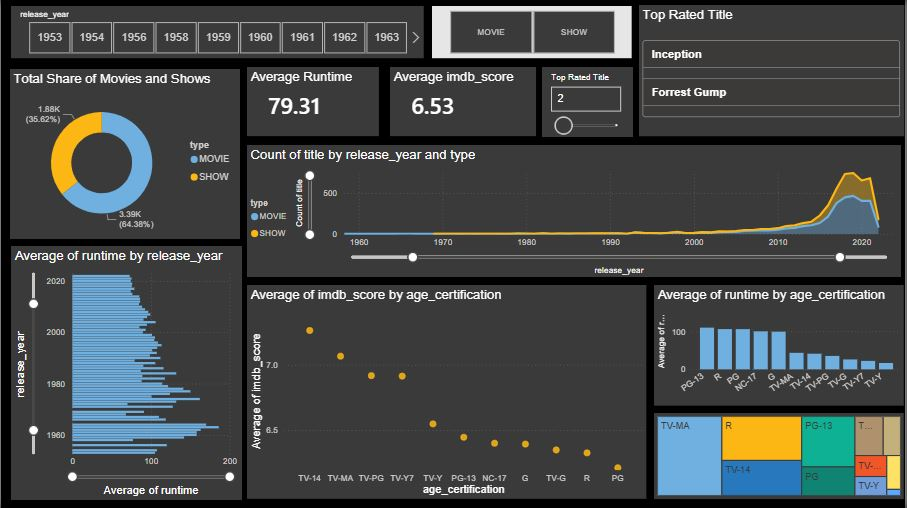

Layout of this report page (visuals, bound fields, positions):
{"tool":"powerbi","page":{"name":"Report","canvas":[1280,720],"ordinal":0},"visuals":[{"type":"slicer","fields":{"Values":["Netflix TV Shows and Movies.release_year"]},"box":[14.2,8.5,585.4,73.7],"z":0},{"type":"slicer","fields":{"Values":["Netflix TV Shows and Movies.type"]},"box":[610.9,8.5,283.5,73.7],"z":1000},{"type":"donutChart","title":"Total Share of Movies and Shows","fields":{"Category":["Netflix TV Shows and Movies.type"],"Y":["CountNonNull(Netflix TV Shows and Movies.type)"]},"box":[12.8,97.8,326,240.9],"z":2000},{"type":"stackedAreaChart","fields":{"Category":["Netflix TV Shows and Movies.release_year"],"Y":["CountNonNull(Netflix TV Shows and Movies.title)"],"Series":["Netflix TV Shows and Movies.type"]},"box":[348.7,205.5,931.2,187.1],"z":3000},{"type":"clusteredBarChart","fields":{"Category":["Netflix TV Shows and Movies.release_year"],"Y":["Avg(Netflix TV Shows and Movies.runtime)"]},"box":[14.2,348.7,326,358.6],"z":4000},{"type":"scatterChart","fields":{"X":["Netflix TV Shows and Movies.age_certification"],"Y":["Avg(Netflix TV Shows and Movies.imdb_score)"]},"box":[348.7,403.9,566.9,303.3],"z":5000},{"type":"treemap","fields":{"Group":["Netflix TV Shows and Movies.age_certification"],"Values":["CountNonNull(Netflix TV Shows and Movies.age_certification)"]},"box":[925.5,585.4,354.3,121.9],"z":6000},{"type":"cardVisual","title":"Top Rated Title","fields":{"Rows":["Netflix TV Shows and Movies.title"],"Data":["Avg(Netflix TV Shows and Movies.normscore*votes)"]},"box":[904.3,7.1,375.6,185.7],"z":7000},{"type":"slicer","fields":{"Values":["Parameter.Parameter"]},"box":[766.8,95,127.6,97.8],"z":8000},{"type":"cardVisual","title":"Average Runtime","fields":{"Data":["Avg(Netflix TV Shows and Movies.runtime)"]},"box":[348.7,95,187.1,97.8],"z":9000},{"type":"cardVisual","title":"Average imdb_score","fields":{"Data":["Avg(Netflix TV Shows and Movies.imdb_score)"]},"box":[551.3,95,206.9,97.8],"z":10000},{"type":"clusteredColumnChart","fields":{"Y":["Avg(Netflix TV Shows and Movies.runtime)1"],"Category":["Netflix TV Shows and Movies.age_certification"]},"box":[925.5,403.9,354.3,171.5],"z":11000}]}

Visuals, with their boxes in screenshot pixels (x1, y1, x2, y2), scaled from the page's 1280x720 canvas onto the 907x508 screenshot:
slicer - Netflix TV Shows and Movies.release_year: {"x1": 10, "y1": 6, "x2": 425, "y2": 58}
slicer - Netflix TV Shows and Movies.type: {"x1": 433, "y1": 6, "x2": 634, "y2": 58}
"Total Share of Movies and Shows" donutChart: {"x1": 9, "y1": 69, "x2": 240, "y2": 239}
stackedAreaChart - Netflix TV Shows and Movies.release_year x CountNonNull(Netflix TV Shows and Movies.title): {"x1": 247, "y1": 145, "x2": 906, "y2": 277}
clusteredBarChart - Netflix TV Shows and Movies.release_year x Avg(Netflix TV Shows and Movies.runtime): {"x1": 10, "y1": 246, "x2": 241, "y2": 499}
scatterChart - Netflix TV Shows and Movies.age_certification x Avg(Netflix TV Shows and Movies.imdb_score): {"x1": 247, "y1": 285, "x2": 649, "y2": 499}
treemap - Netflix TV Shows and Movies.age_certification x CountNonNull(Netflix TV Shows and Movies.age_certification): {"x1": 656, "y1": 413, "x2": 906, "y2": 499}
"Top Rated Title" cardVisual: {"x1": 641, "y1": 5, "x2": 906, "y2": 136}
slicer - Parameter.Parameter: {"x1": 543, "y1": 67, "x2": 634, "y2": 136}
"Average Runtime" cardVisual: {"x1": 247, "y1": 67, "x2": 380, "y2": 136}
"Average imdb_score" cardVisual: {"x1": 391, "y1": 67, "x2": 537, "y2": 136}
clusteredColumnChart - Avg(Netflix TV Shows and Movies.runtime)1 x Netflix TV Shows and Movies.age_certification: {"x1": 656, "y1": 285, "x2": 906, "y2": 406}
